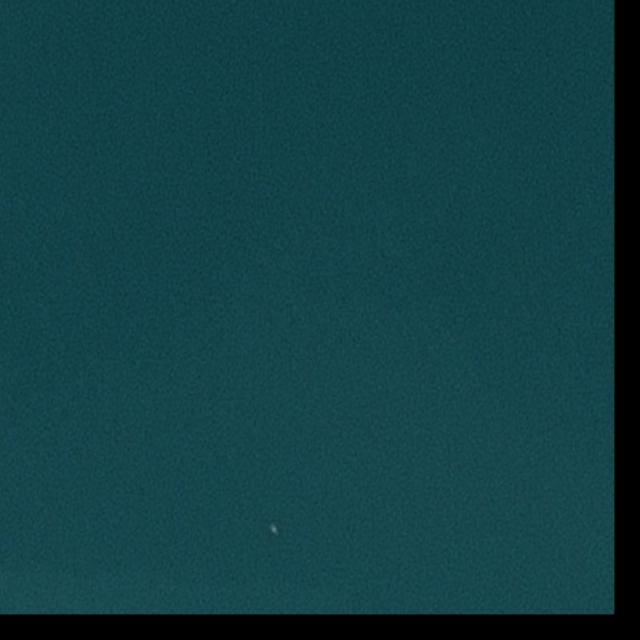ship: (270, 522, 280, 537)
